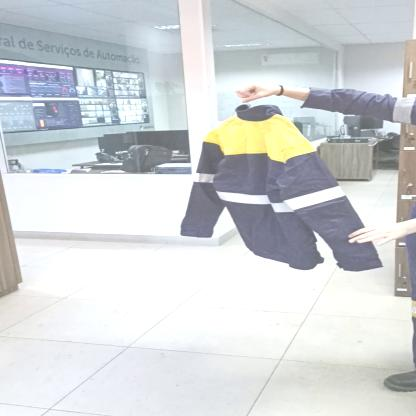C_eletrica: (178, 110, 382, 277)
